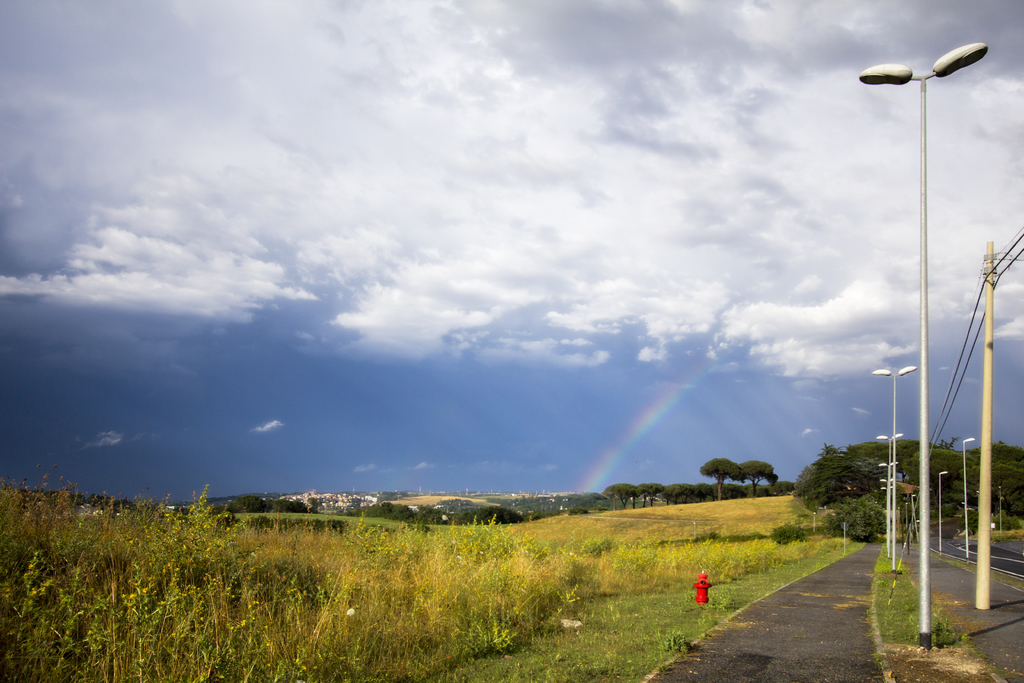Tree: (793, 438, 1023, 547), (601, 480, 701, 506), (704, 456, 741, 507), (738, 460, 780, 495)
